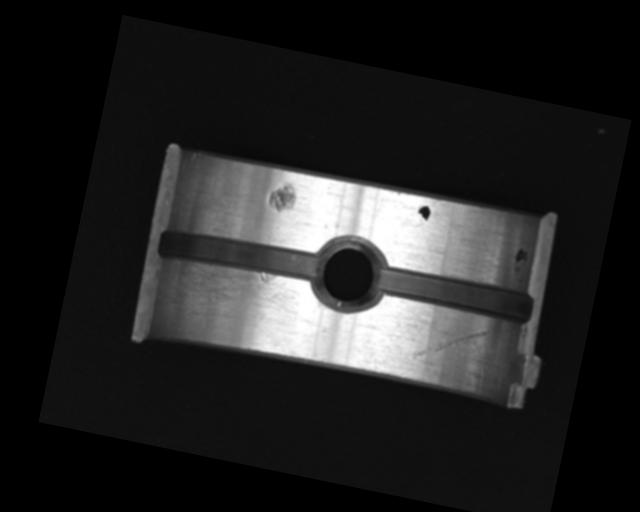blot: (511, 246, 529, 276), (415, 203, 433, 224)
bruise: (266, 180, 298, 214)
gap: (154, 221, 325, 291), (373, 262, 534, 325)
hole: (310, 230, 392, 320)
nick: (410, 315, 491, 375)
scratch: (156, 251, 317, 352)
